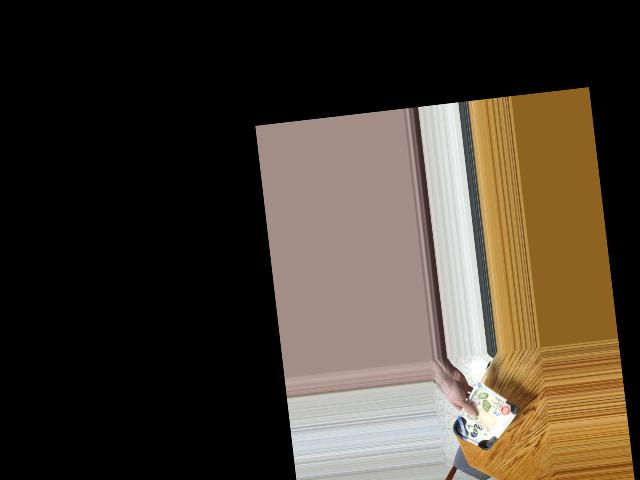cheese: (454, 390, 515, 453)
